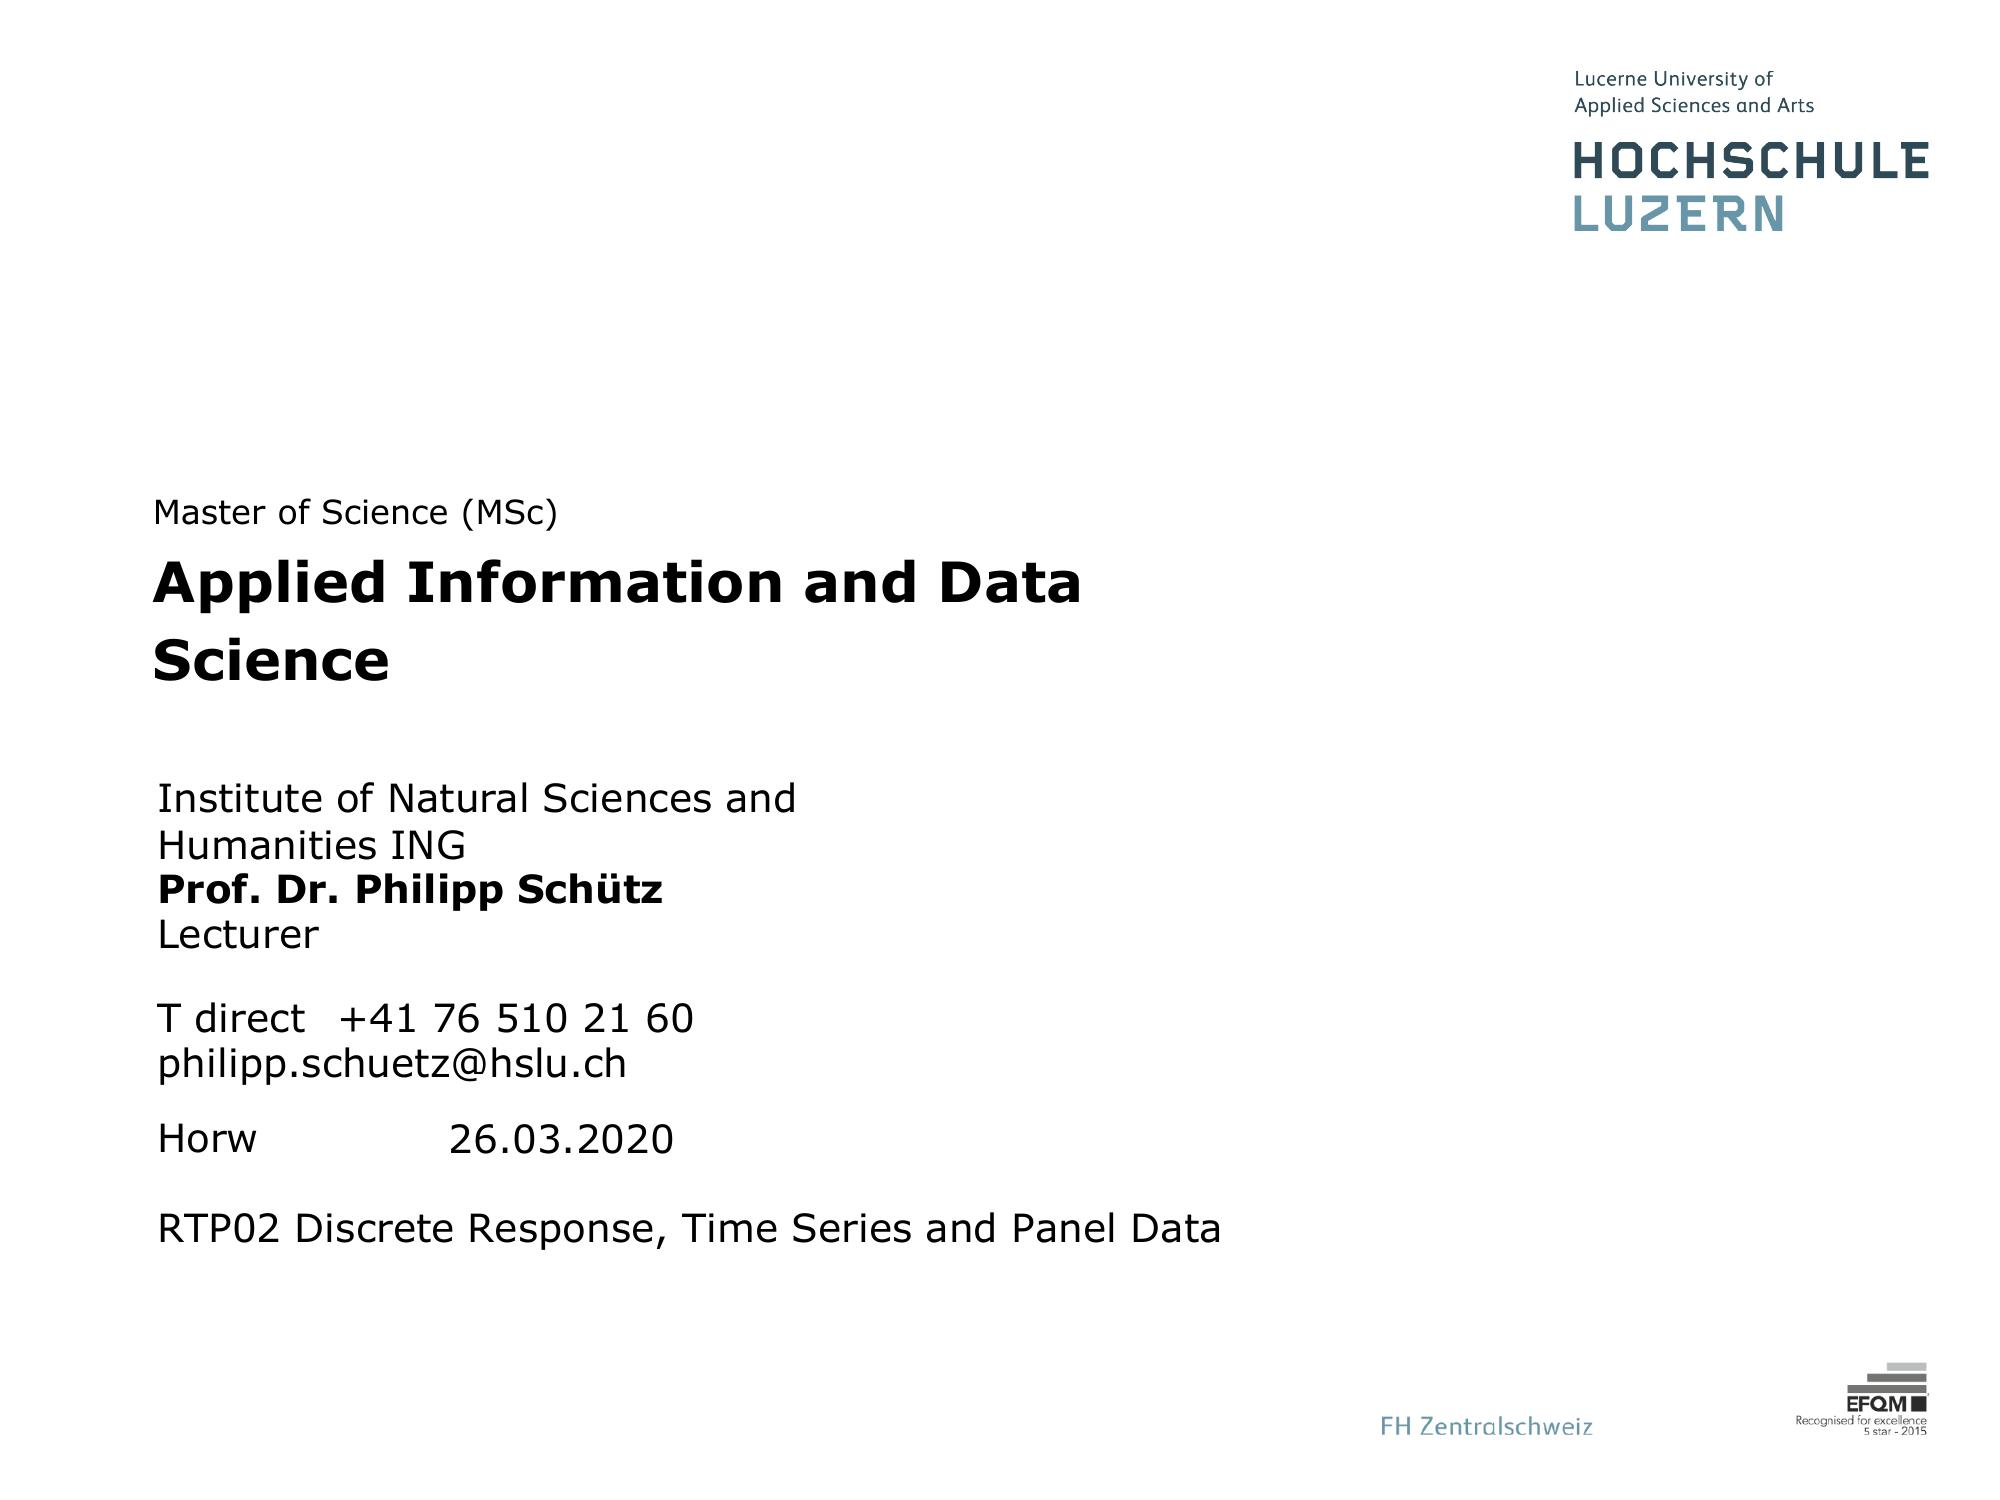Title: (132, 555, 1098, 709)
